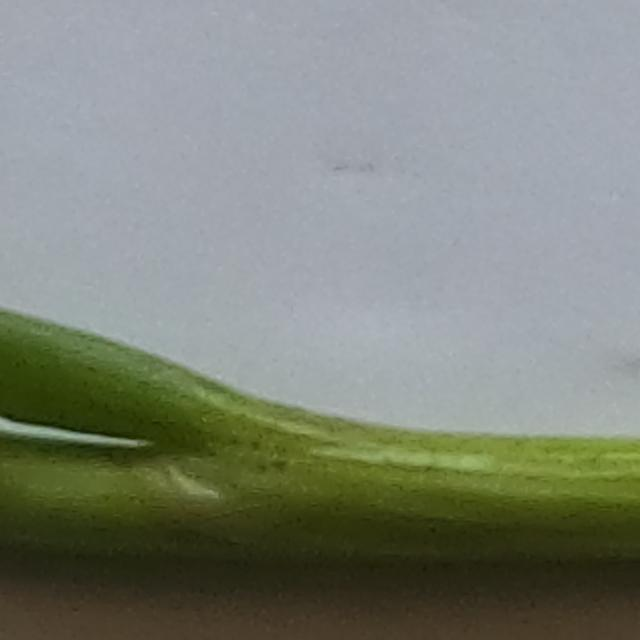green_onion: (0, 306, 640, 584)
